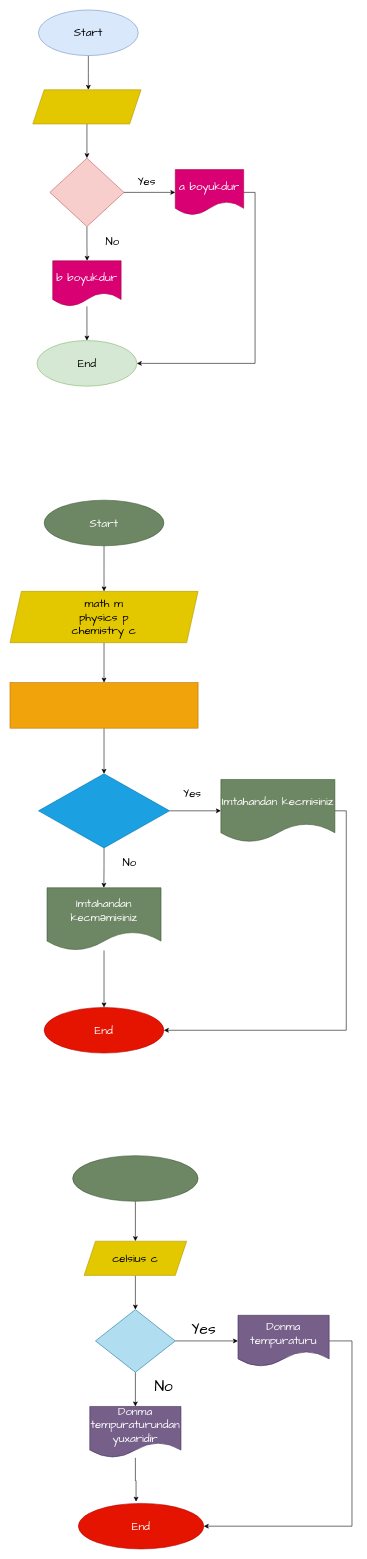
Some shapes in this 367 by 1559 pixel diagram are drawn without their labels. The centre of each missing label's shape, as x and y in pixels:
"a > b && a != b" goes at (86,192).
"Avarage = m+p+c/3" goes at (103,705).
"Avarage > 60 && Avarage != 60" goes at (104,810).
"c < = 0" goes at (135,1340).
"num a num b" goes at (86,106).
"Text" goes at (135,1178).
